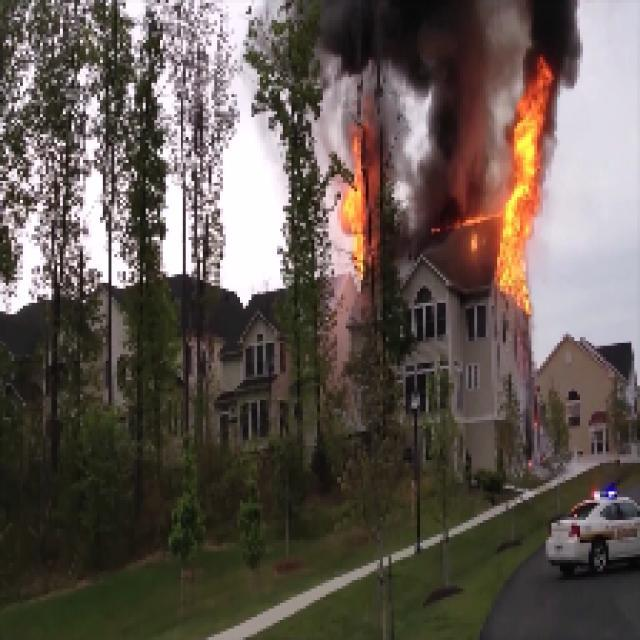Fire: (498, 97, 557, 302)
Smoke: (308, 7, 516, 102), (424, 111, 478, 223), (529, 2, 582, 58)
